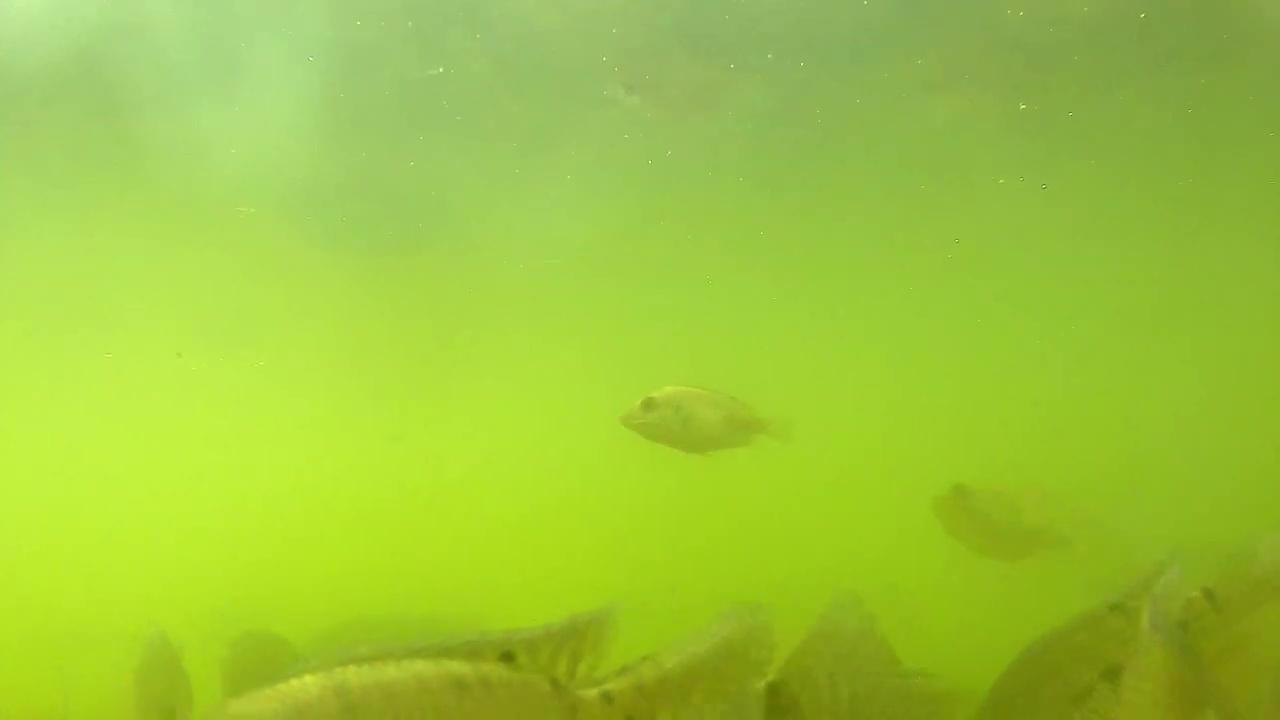Tilapia: (627, 382, 786, 460), (931, 470, 1058, 558)
